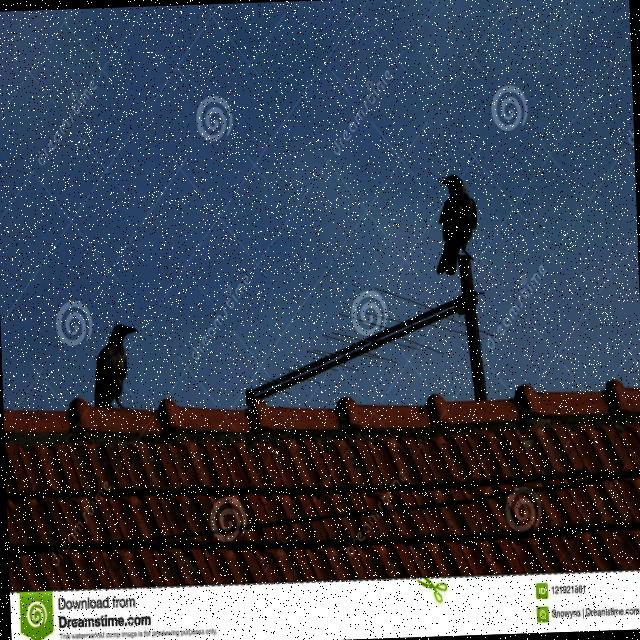bird: (432, 171, 479, 276), (88, 322, 140, 409)
